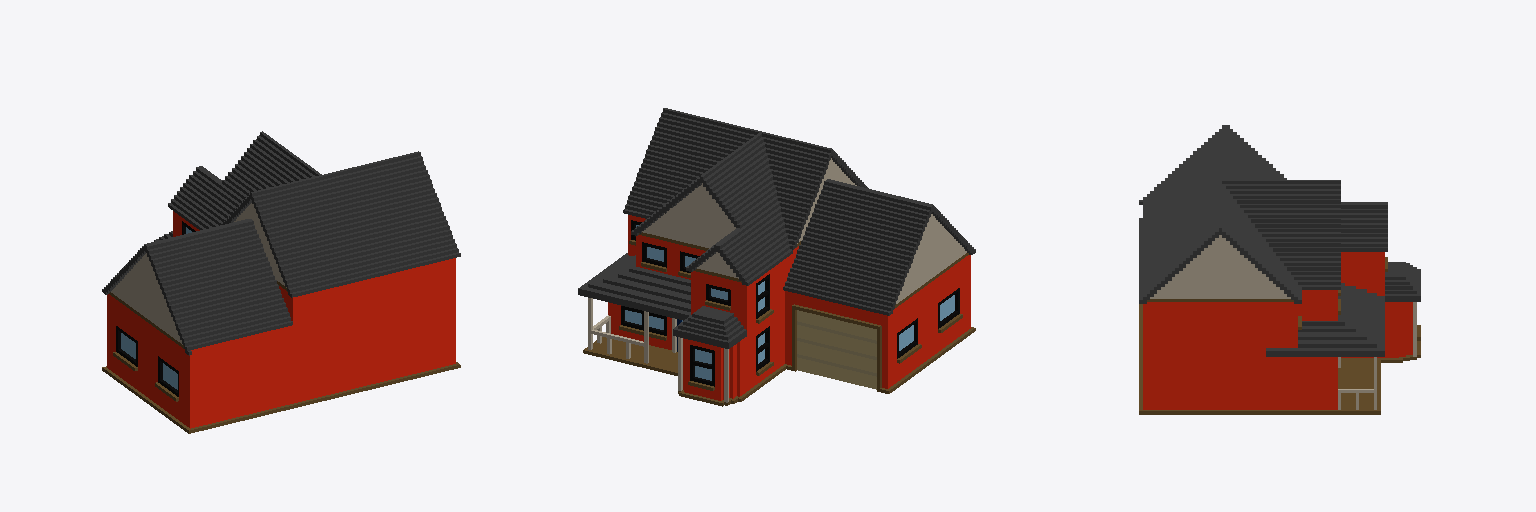
3 views of the same model, side by side, from view 1: azimuth 30°, elevation 25°; view 2: azimuth 150°, elevation 25°; view 3: azimuth 270°, elevation 25° (orthographic).
Visible parts, largest first — view 1: object 1; view 2: object 1; view 3: object 1.
Boxes of the visible parts, x1,y1,x2,y2 form: object 1: [102, 131, 460, 433]; object 1: [578, 108, 975, 406]; object 1: [1139, 125, 1420, 414].
Size of the model in its own units: 8.8 by 5.7 by 7.8.
Materials: 1 (1 with a texture image).